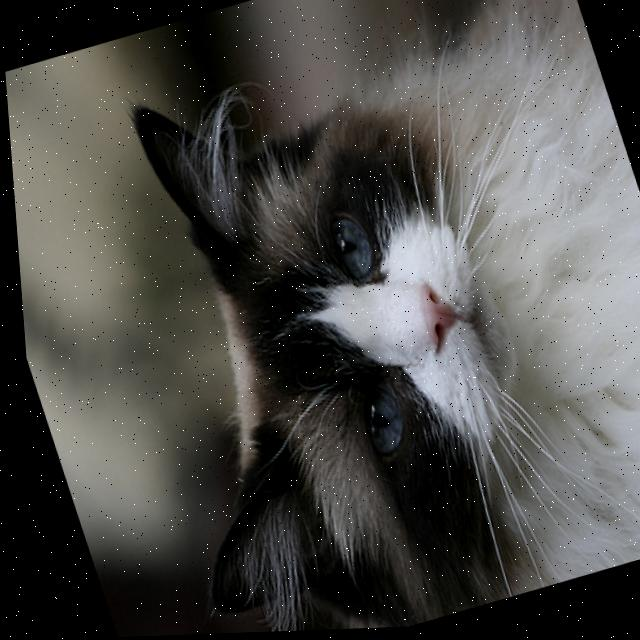Ragdoll: (18, 0, 640, 639)
